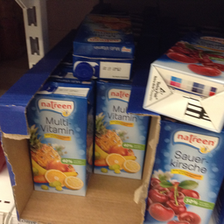juice: (144, 28, 223, 133), (145, 122, 223, 224), (26, 83, 91, 197), (93, 78, 151, 179), (72, 7, 136, 81)
